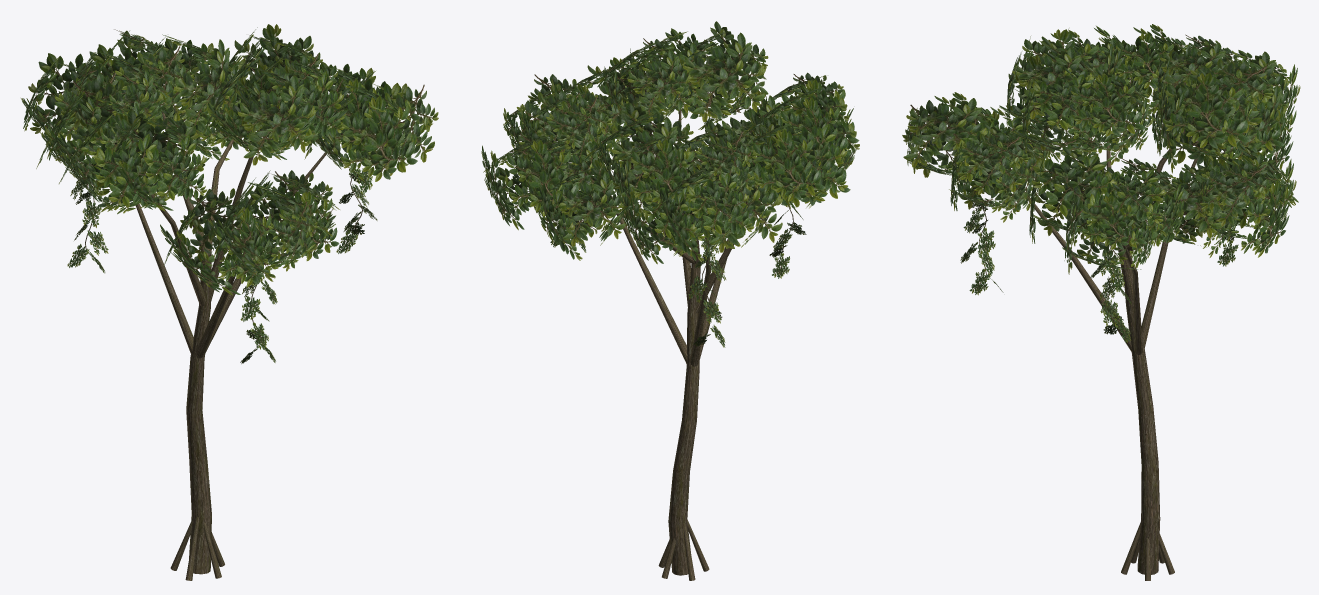
File: background_tree_01.glb
3 renders of one model, left to right at view 1: azimuth 30°, elevation 25°; view 2: azimuth 150°, elevation 25°; view 3: azimuth 270°, elevation 25°, orthographic. The views are drawn at different scales.
Parts seen in each view (by area): view 1: background_tree_01; view 2: background_tree_01; view 3: background_tree_01.
Boxes of the visible parts, x1,y1,x2,y2 form: background_tree_01: [21, 24, 438, 580]; background_tree_01: [481, 21, 859, 580]; background_tree_01: [902, 24, 1300, 580].
Bounding box in the file's own units: 9.02 × 12.32 × 8.57.
Materials: 2 (2 with a texture image).
